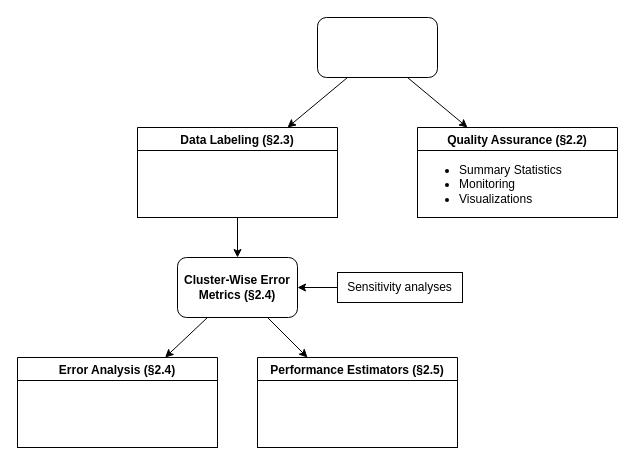
Image size: 635x465. Some labels were removed from this diagram. The centre of each missing label's shape, as x and y in pixels:
ER System Predictions: point 377,47
Fairness Interpretable modeling Error coding/auditing: point 117,414
Labeling methodology Probability Sampling Quality Assurance: point 237,184
Pairwise precision/recall Cluster precision/recall B-cubed precision/recall: point 357,414
